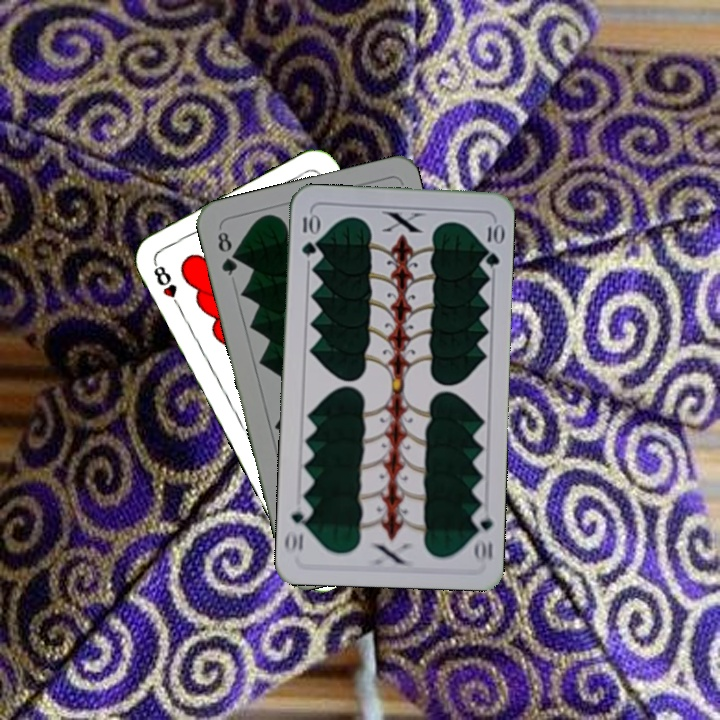G10: (469, 505, 496, 564), (298, 209, 320, 259)
G8: (213, 227, 240, 279)
H8: (149, 258, 184, 313)
